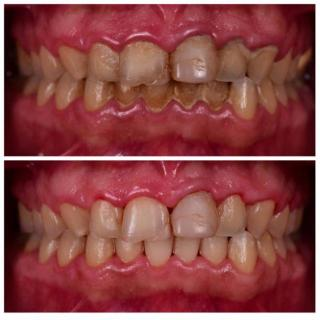Gum Swelling: (59, 24, 266, 55), (71, 179, 269, 211), (74, 99, 261, 129), (75, 256, 255, 284)
calculus: (119, 33, 164, 83), (176, 29, 216, 61), (141, 85, 179, 117), (80, 85, 116, 112), (90, 44, 118, 78), (173, 85, 203, 115), (254, 37, 280, 71), (204, 81, 230, 115), (218, 33, 246, 63), (290, 44, 314, 78), (114, 83, 142, 110)
maligned: (233, 73, 258, 113)
plaque: (60, 44, 89, 76)
stains: (159, 50, 181, 80)
